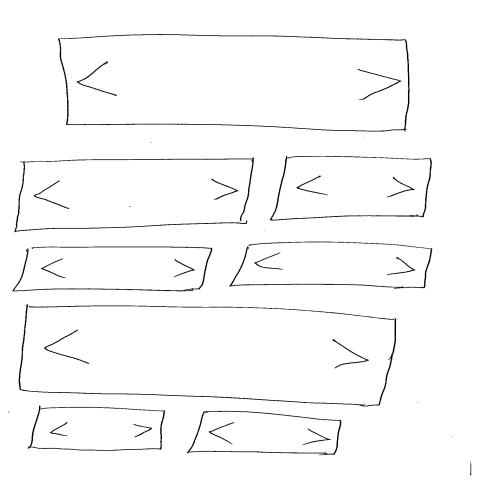Carousel: (16, 305, 399, 407), (55, 34, 412, 133), (14, 156, 258, 234), (268, 156, 434, 223), (10, 246, 215, 294), (229, 241, 434, 289), (186, 411, 344, 457), (25, 405, 167, 454)
